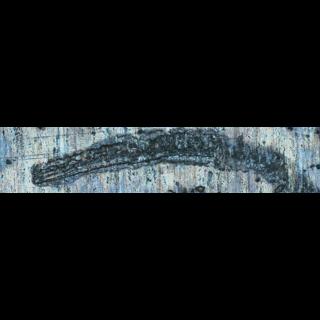d: (27, 126, 313, 190)
